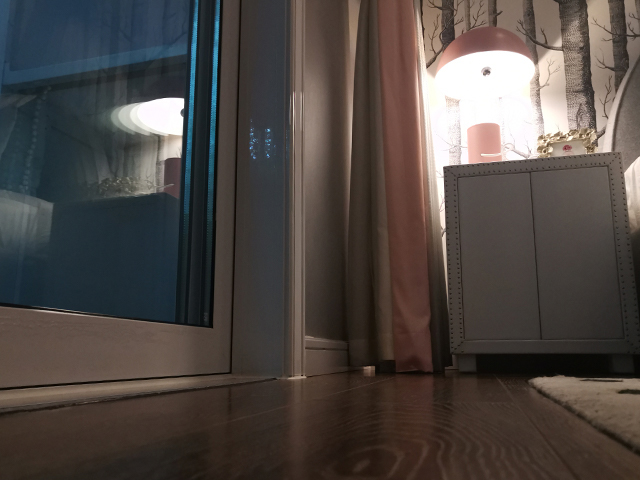cabinet: (441, 150, 640, 378)
carpet: (524, 372, 640, 456)
curtain: (343, 1, 454, 376)
